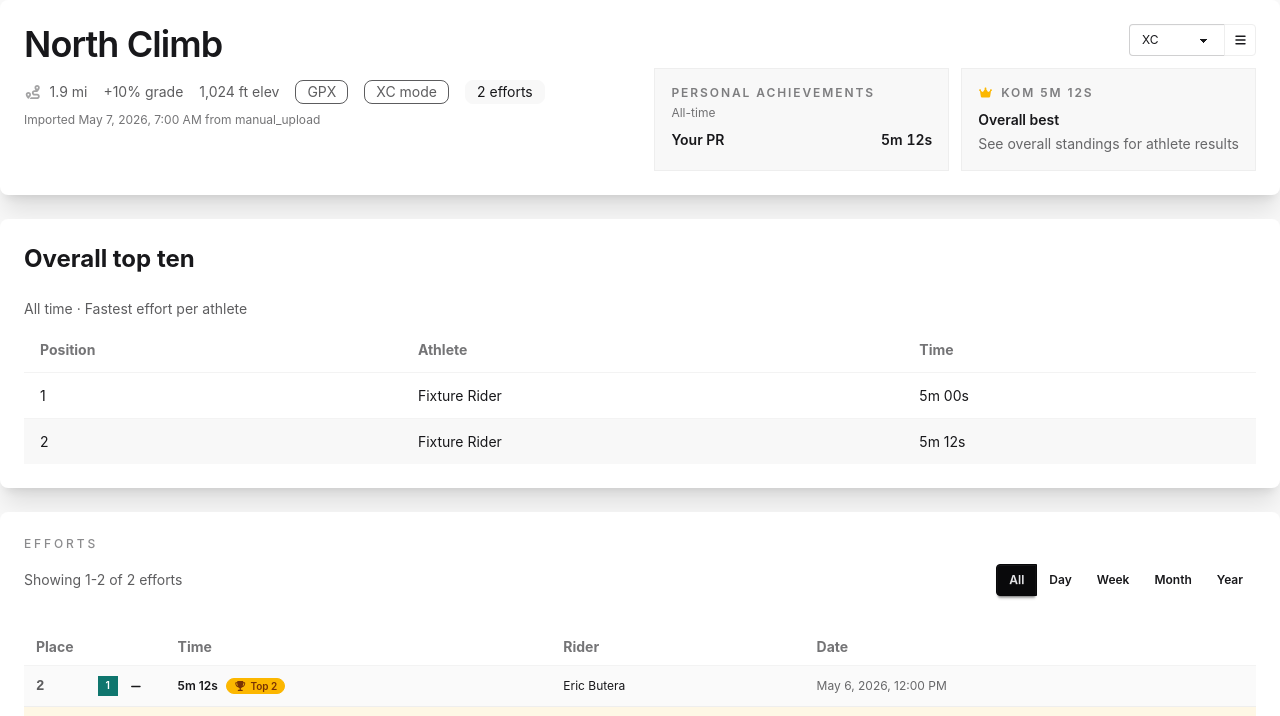
SegmentDetailPanel › filters efforts by the selected time window
What coordinates should you click on to do the following:
click the button "Day"
I would click on:
 (1060, 580)
Its box is [1036,564,1085,596].
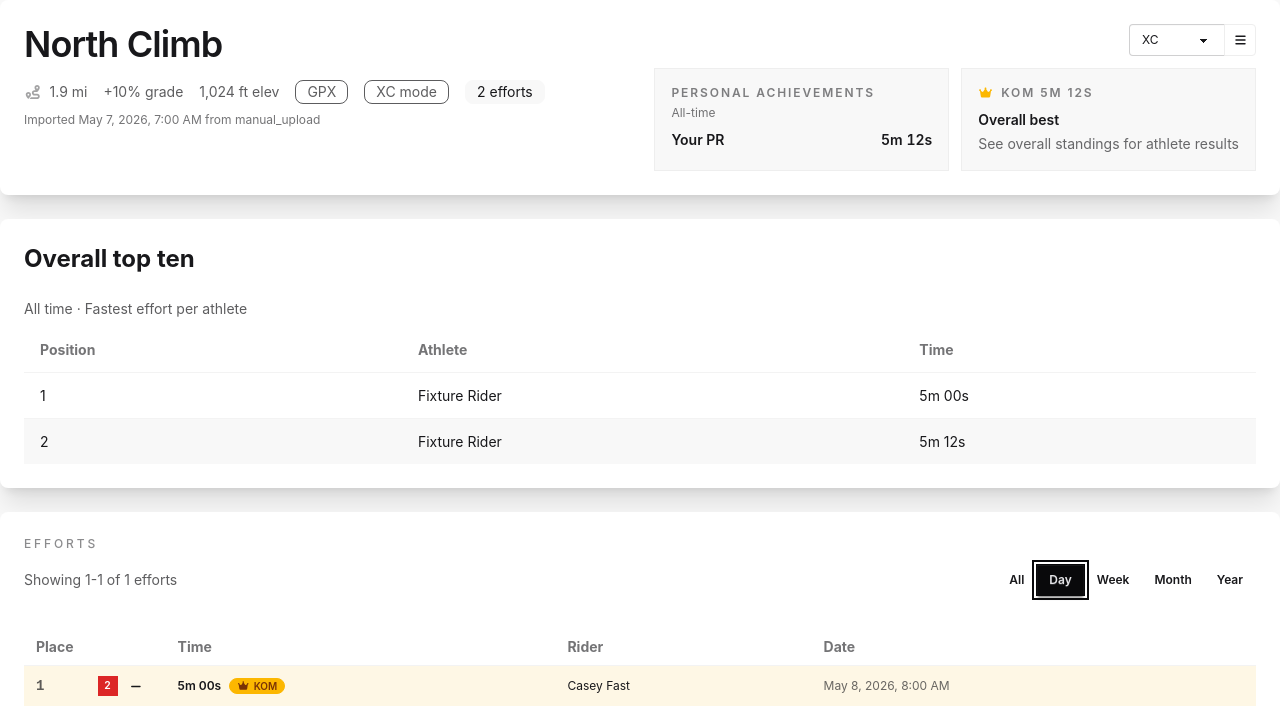
Expected: the link "Your PR 5m 12s" is shown, [671,129,932,150]
Now the text "Showing 1-1 of 1 efforts" is shown, box [24,570,177,590]
